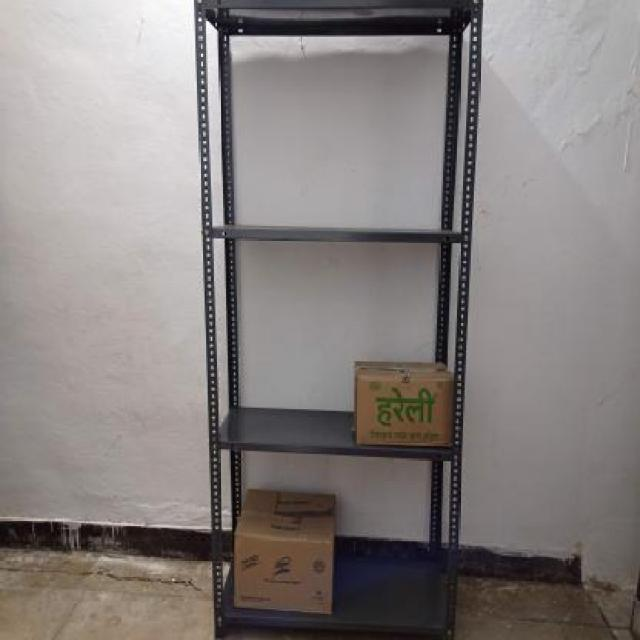box: (355, 373, 453, 450), (235, 536, 336, 610)
